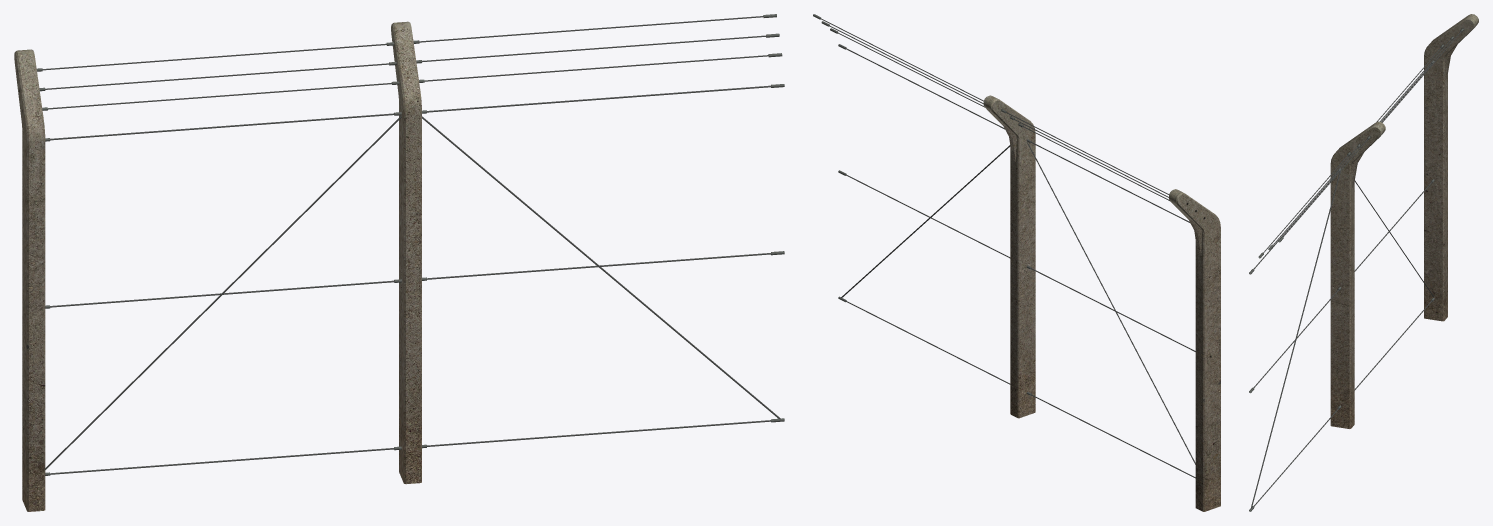
The model's file is object_18_lev2_lev3.glb.
The picture shows the model from 3 angles, left to right: view 1: azimuth 30°, elevation 25°; view 2: azimuth 150°, elevation 25°; view 3: azimuth 270°, elevation 25°; orthographic projection. The views are drawn at different scales.
Visible parts, largest first — view 1: object_18_lev2_lev3; view 2: object_18_lev2_lev3; view 3: object_18_lev2_lev3.
Boxes of the visible parts, left/top/right/bottom form: object_18_lev2_lev3: left=14, top=14, right=784, bottom=511; object_18_lev2_lev3: left=813, top=14, right=1220, bottom=511; object_18_lev2_lev3: left=1249, top=14, right=1478, bottom=511.
Size of the model in its own units: 9.49 by 6.08 by 4.13.
Materials: 1 (1 with a texture image).
